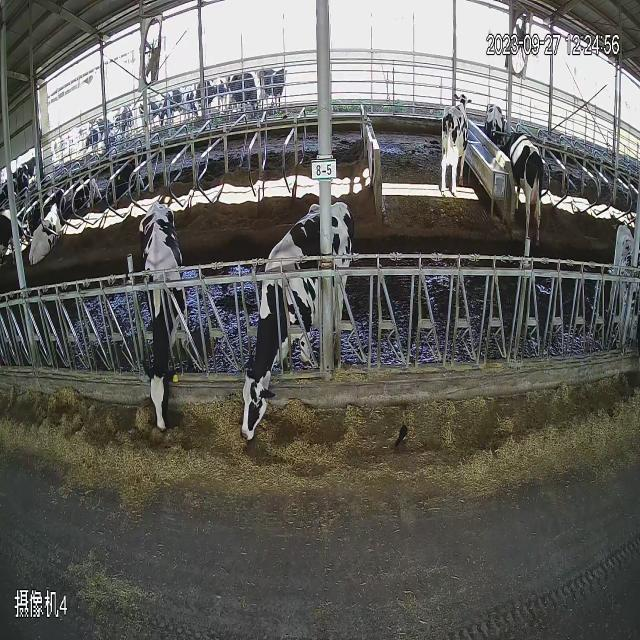feeding: (234, 168, 369, 484), (136, 178, 189, 458)
lying down: (33, 155, 67, 289), (107, 136, 148, 227), (69, 145, 104, 250)
standing: (70, 59, 312, 152), (501, 130, 556, 255), (440, 68, 472, 227), (608, 212, 640, 370), (2, 150, 34, 299), (479, 54, 504, 164)
